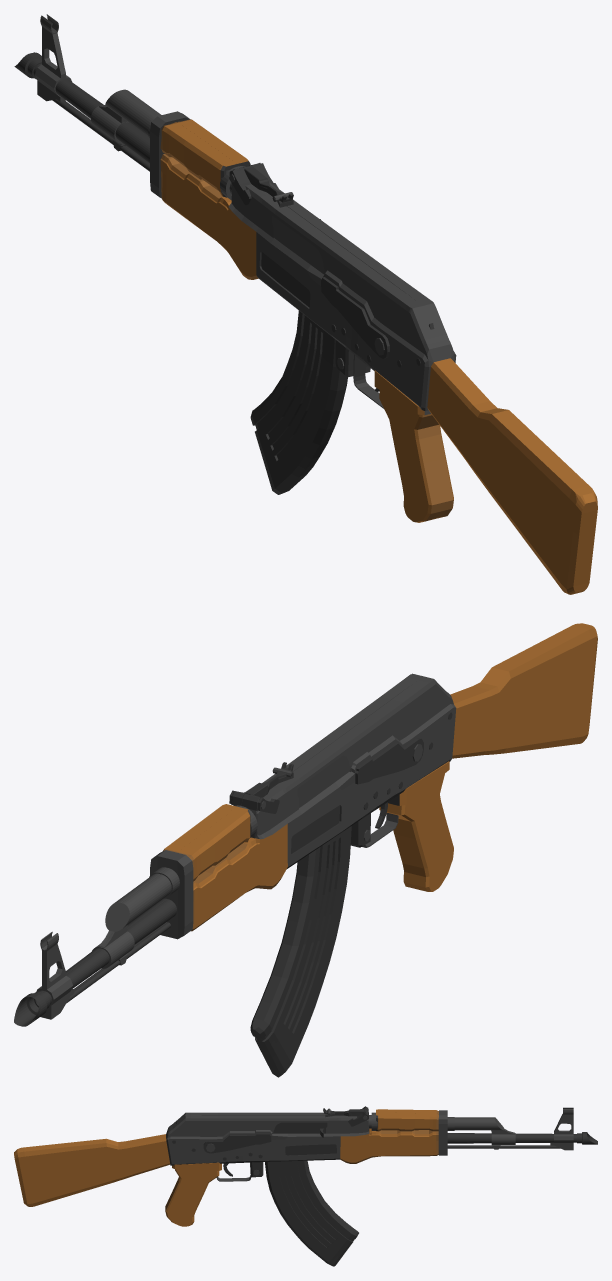
File: Assault Rifle.fbx
3 renders of one model, top to bottom at view 1: azimuth 30°, elevation 25°; view 2: azimuth 150°, elevation 25°; view 3: azimuth 270°, elevation 25°, orthographic. The views are drawn at different scales.
Visible parts, largest first — view 1: Cube.001; view 2: Cube.001; view 3: Cube.001.
Boxes of the visible parts, left/top/right/bottom form: Cube.001: left=14, top=14, right=597, bottom=594; Cube.001: left=14, top=623, right=597, bottom=1077; Cube.001: left=14, top=1106, right=597, bottom=1266.
Bounding box in the file's own units: 25.46 × 145 × 484.
Materials: 1 (1 with a texture image).
